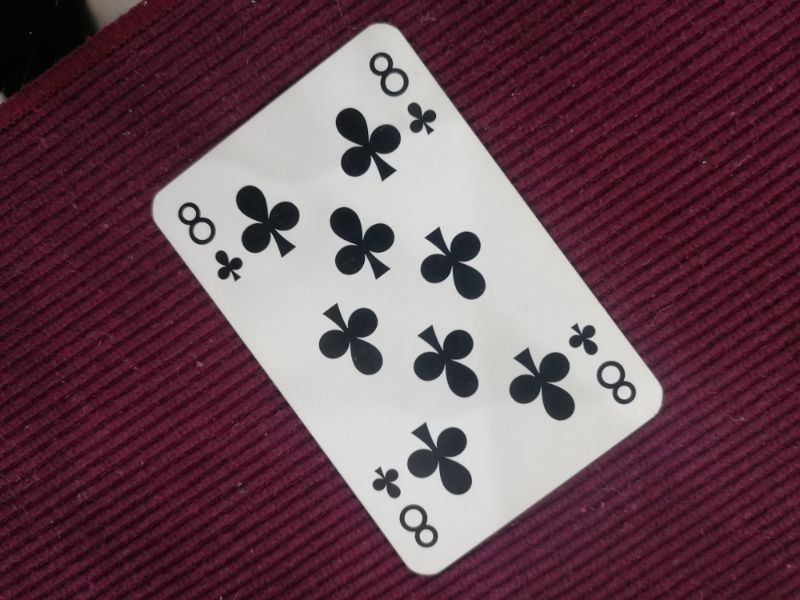8c: (367, 48, 441, 143), (566, 317, 640, 409), (369, 463, 443, 553), (175, 199, 246, 287)
